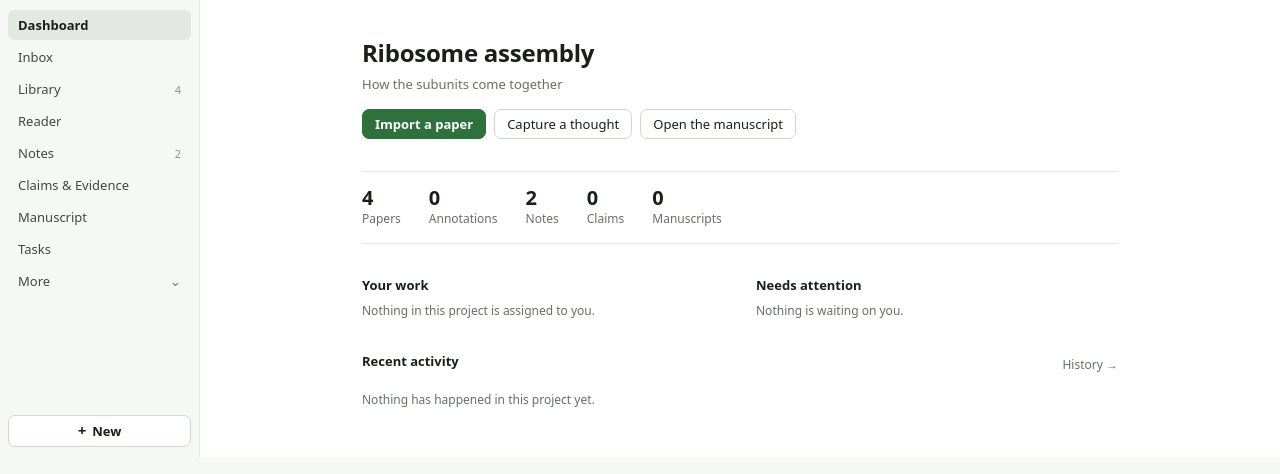
the Tasks page › opens the board for whoever is signed in
The width and height of the screenshot is (1280, 474).
Click the button "Tasks": (100, 249) top-left (8, 234), bottom-right (191, 264)
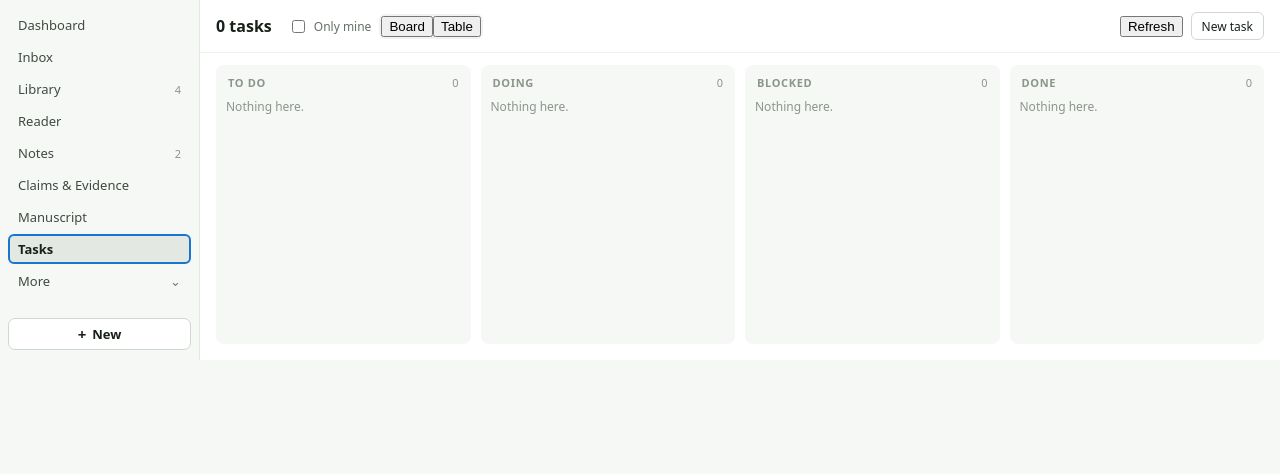
Expected: the element named "Task controls" is shown, top-left (200, 0), bottom-right (1279, 53)
